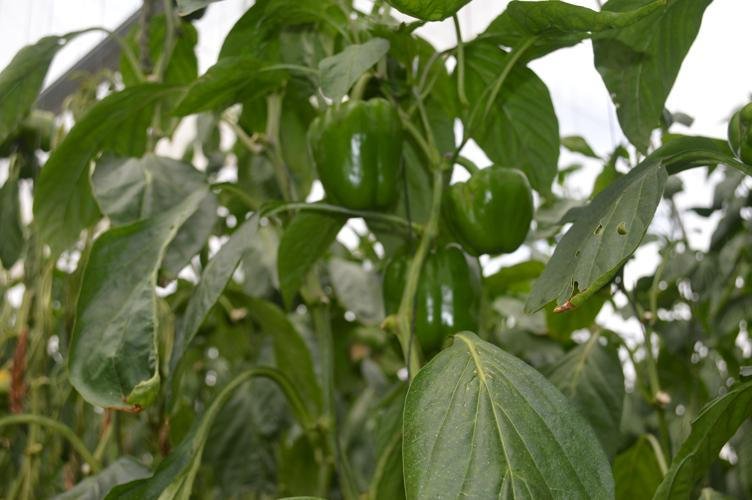BellPepper: (306, 98, 404, 209), (381, 249, 485, 351), (447, 166, 533, 257)
